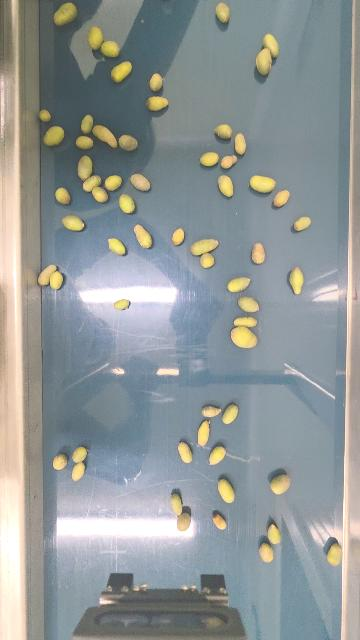Baby Potato: (229, 324, 259, 350), (52, 1, 78, 27), (133, 222, 154, 251), (109, 59, 133, 84), (93, 124, 118, 148), (249, 173, 276, 194), (189, 238, 219, 255), (255, 48, 273, 76), (38, 262, 58, 287), (43, 125, 65, 147), (270, 473, 292, 495), (262, 32, 281, 57), (226, 275, 251, 294), (218, 478, 236, 504), (289, 267, 305, 296), (196, 418, 212, 447), (76, 154, 94, 179), (86, 25, 104, 50), (117, 133, 139, 153), (222, 402, 240, 426), (238, 295, 260, 314), (214, 0, 232, 23), (62, 214, 85, 232), (218, 174, 235, 198), (233, 314, 260, 329), (251, 241, 267, 266), (130, 173, 151, 192), (208, 444, 226, 466), (146, 95, 169, 112), (177, 441, 194, 464), (326, 542, 342, 566), (101, 39, 121, 58), (81, 174, 102, 192), (118, 193, 135, 215), (267, 523, 284, 545), (201, 403, 224, 419), (272, 189, 291, 208), (170, 492, 185, 515), (108, 237, 126, 256), (103, 174, 123, 191), (199, 150, 219, 167), (259, 542, 275, 563), (293, 215, 312, 232), (233, 132, 247, 155), (176, 512, 192, 532), (214, 123, 234, 139), (71, 445, 87, 463), (55, 187, 71, 205), (71, 462, 86, 481), (75, 135, 94, 150), (49, 271, 64, 290), (80, 114, 94, 134), (149, 72, 163, 92), (93, 186, 109, 203), (52, 453, 68, 470), (212, 512, 227, 530), (220, 154, 238, 169), (199, 252, 215, 268), (172, 228, 185, 246), (113, 298, 130, 310), (39, 108, 52, 122)
